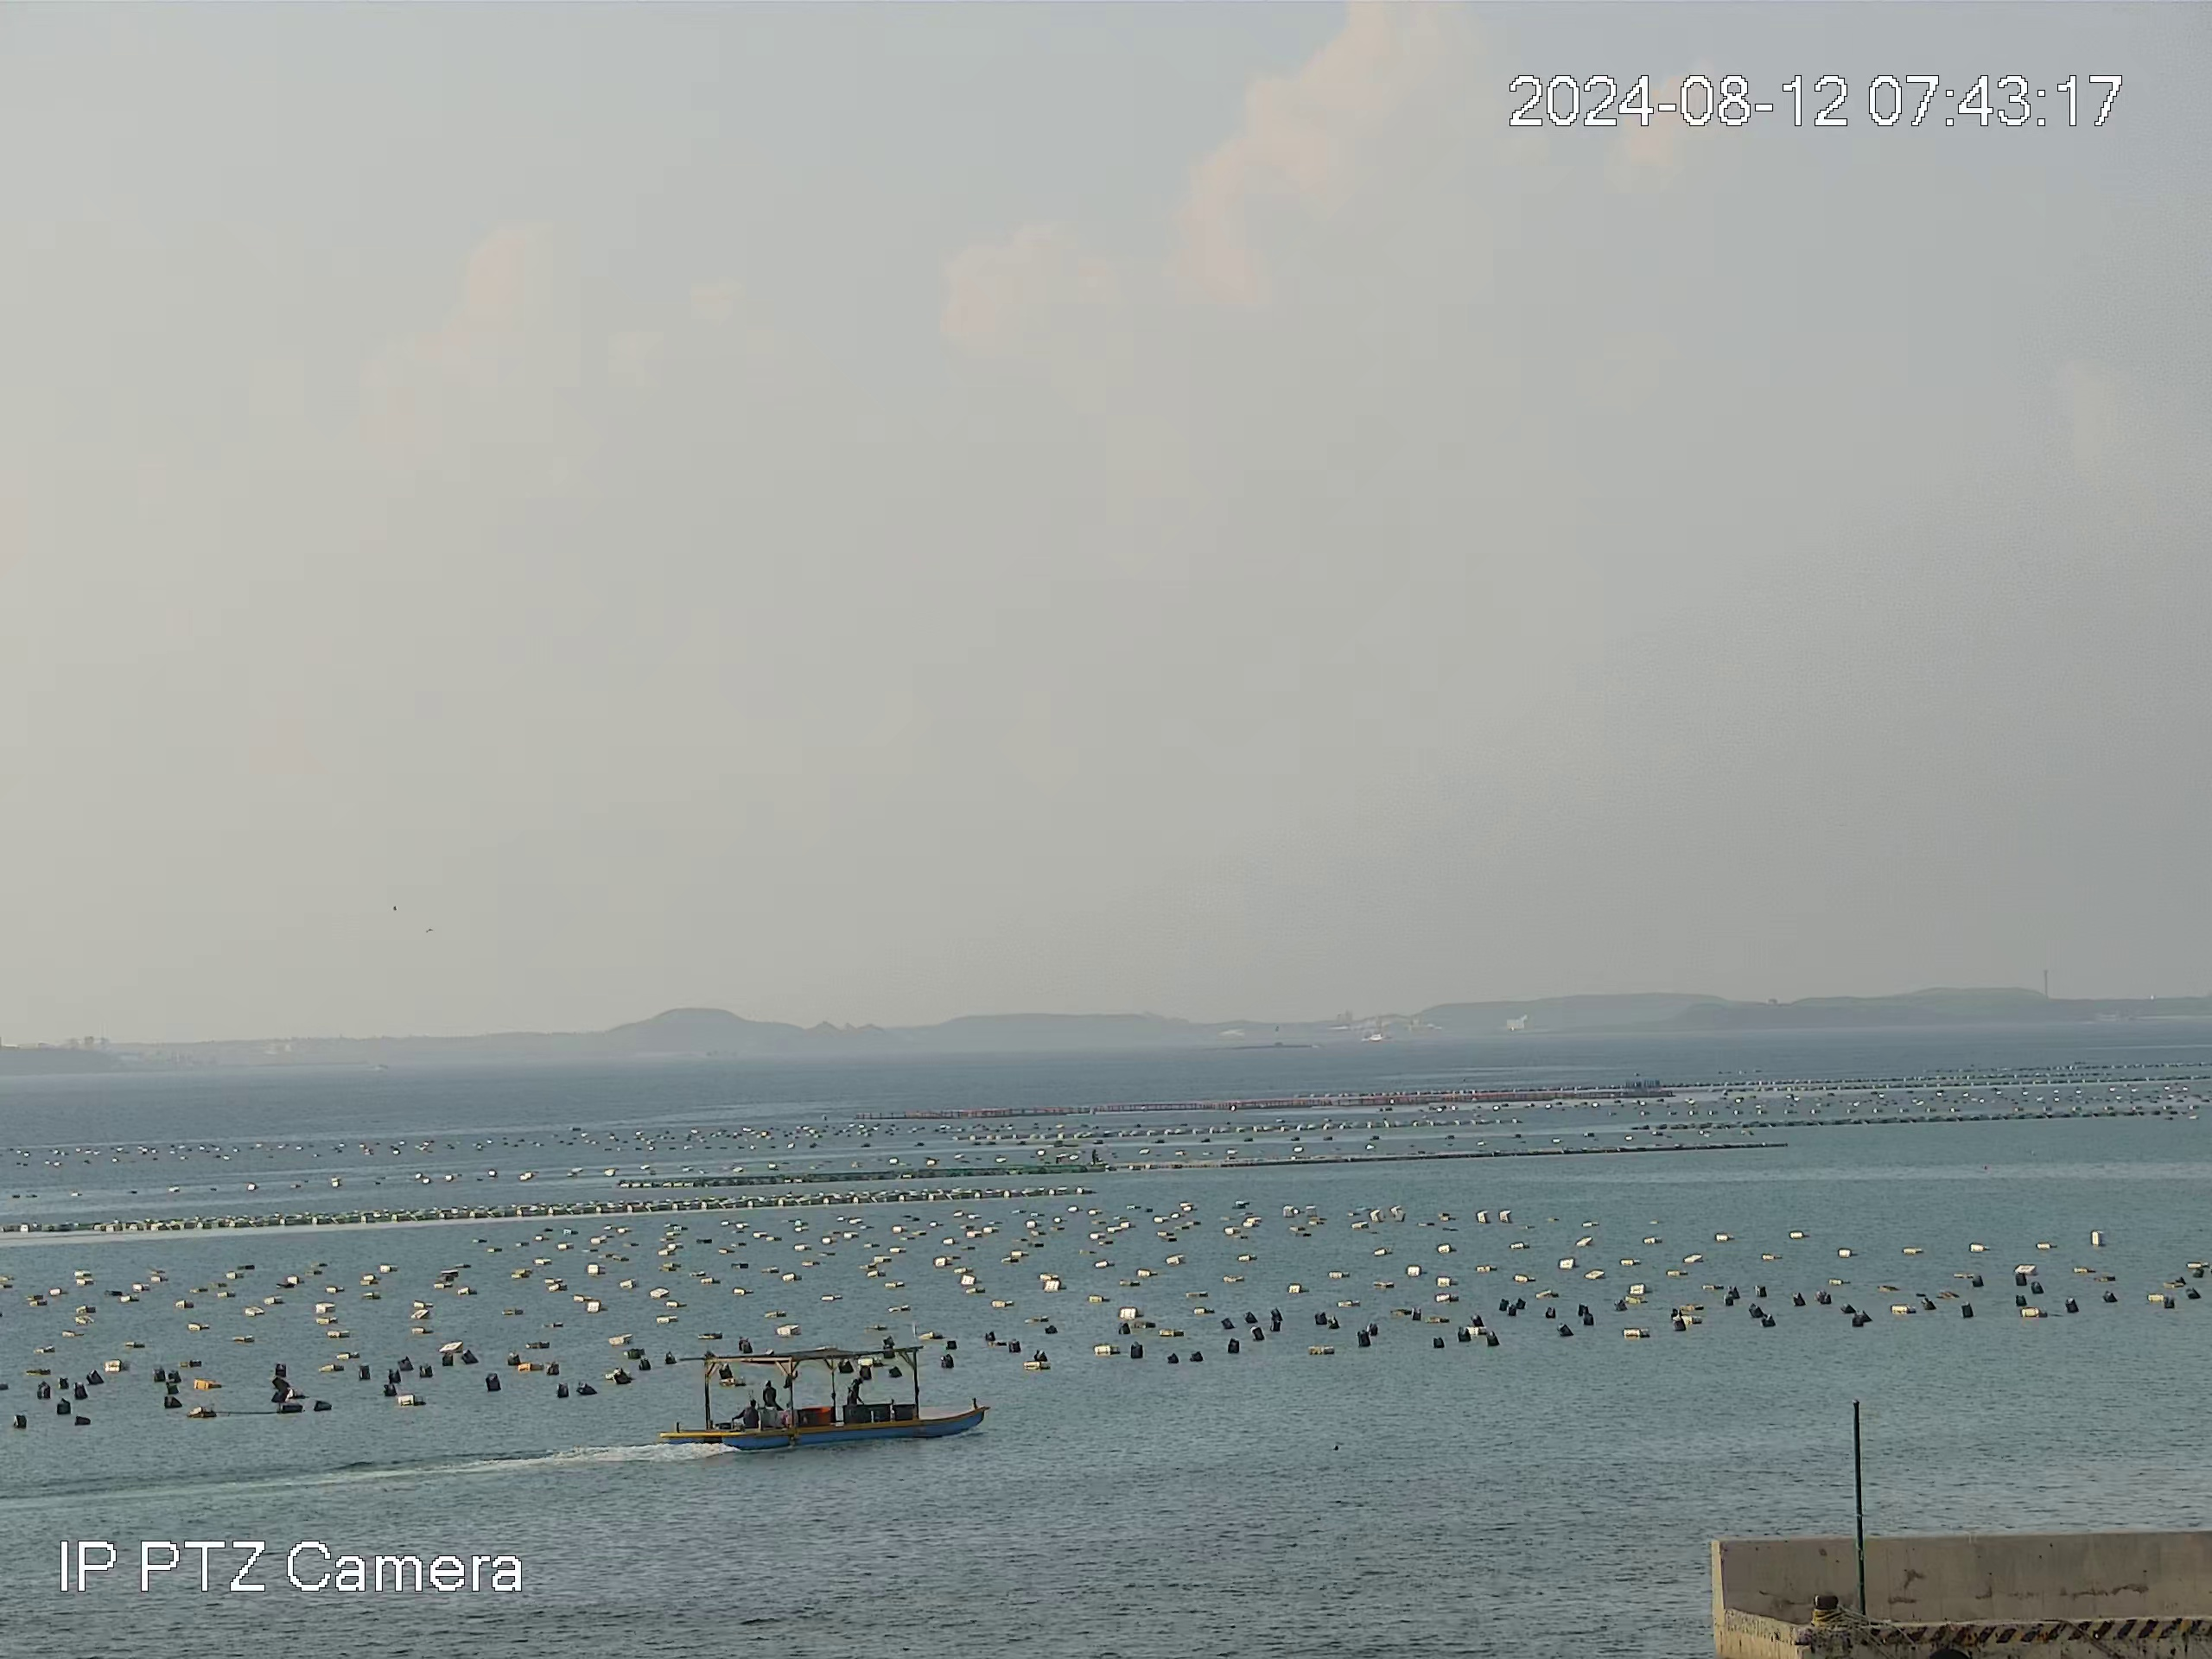boat: (660, 1342, 995, 1457)
